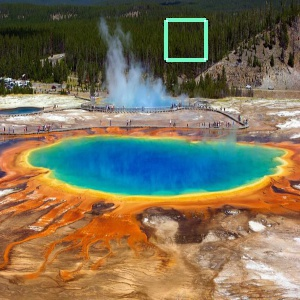square: (163, 16, 209, 64)
